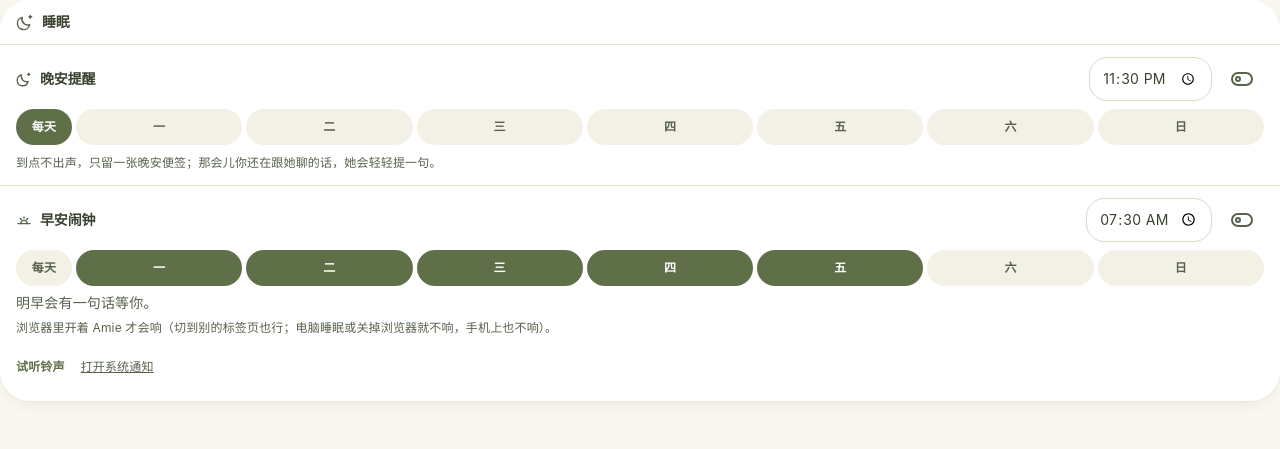
it: 睡眠卡 › 保存失败：如实说没保存上，开关退回原样
Step 1. Click the switch named "晚安提醒" → (1242, 79), box [1220,57,1264,101]
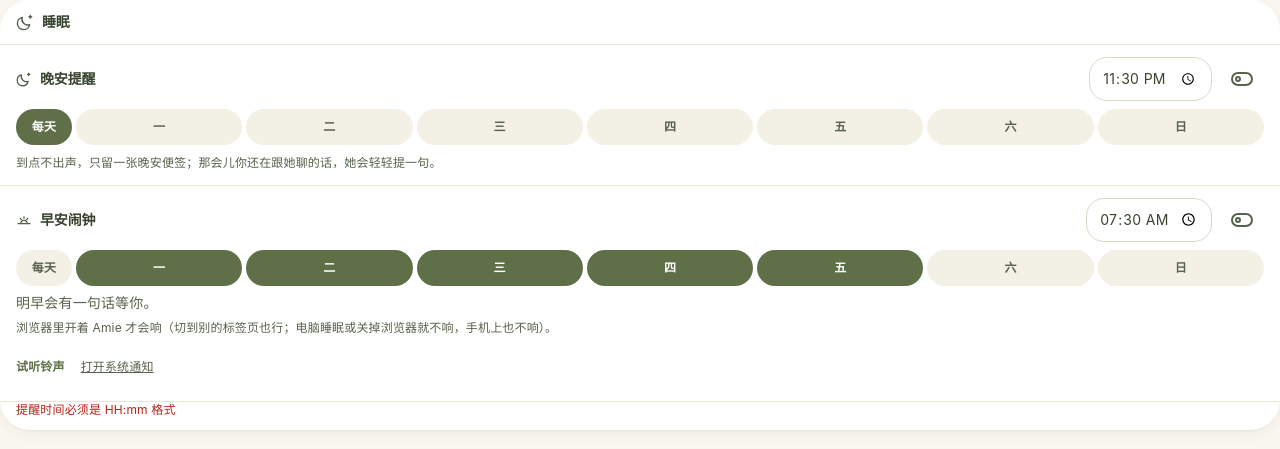
expect the message reads "提醒时间必须是 HH:mm 格式": met, box [16,402,176,417]
